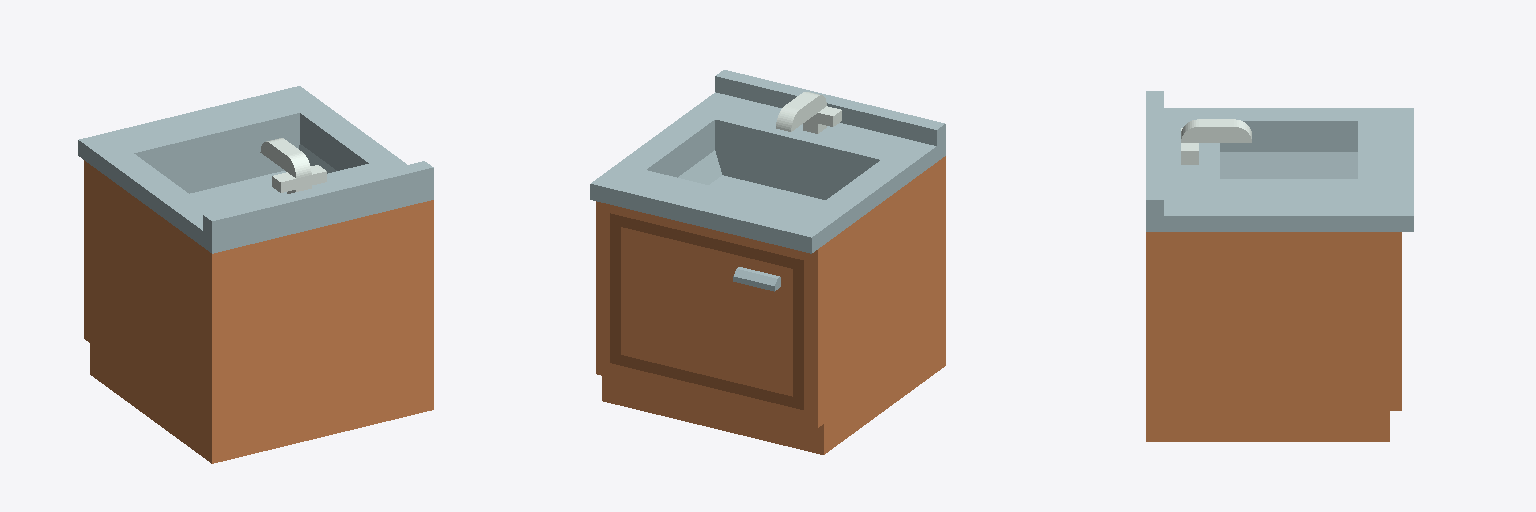
File: kitchenSink.obj
3 renders of one model, left to right at view 1: azimuth 30°, elevation 25°; view 2: azimuth 150°, elevation 25°; view 3: azimuth 270°, elevation 25°, orthographic.
Parts seen in each view (by area): view 1: kitchenSink; view 2: kitchenSink, door; view 3: kitchenSink.
Part boxes in pixels (x1,y1,x2,y2): kitchenSink: (78,86,433,463); kitchenSink: (590,70,945,454); door: (610,213,803,409); kitchenSink: (1146,91,1413,441).
Bounding box in the file's own units: 0.43 × 0.49 × 0.45.